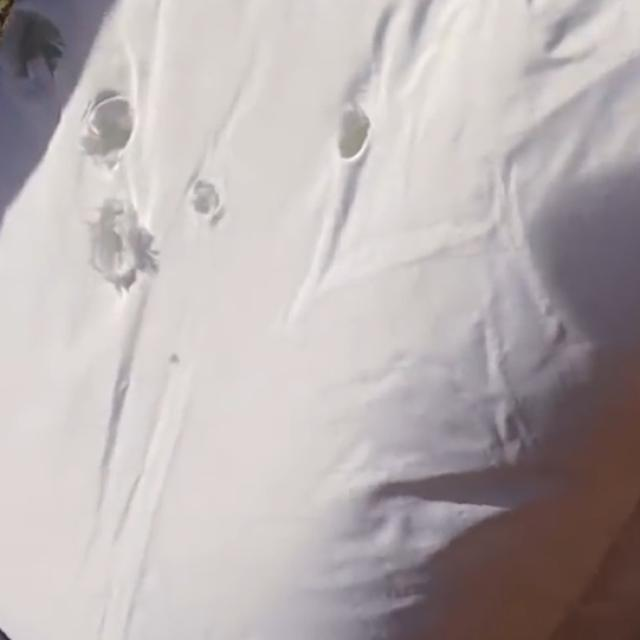bullets: (86, 206, 156, 279), (5, 18, 74, 82), (80, 100, 148, 162), (330, 114, 374, 162), (188, 182, 224, 218)
